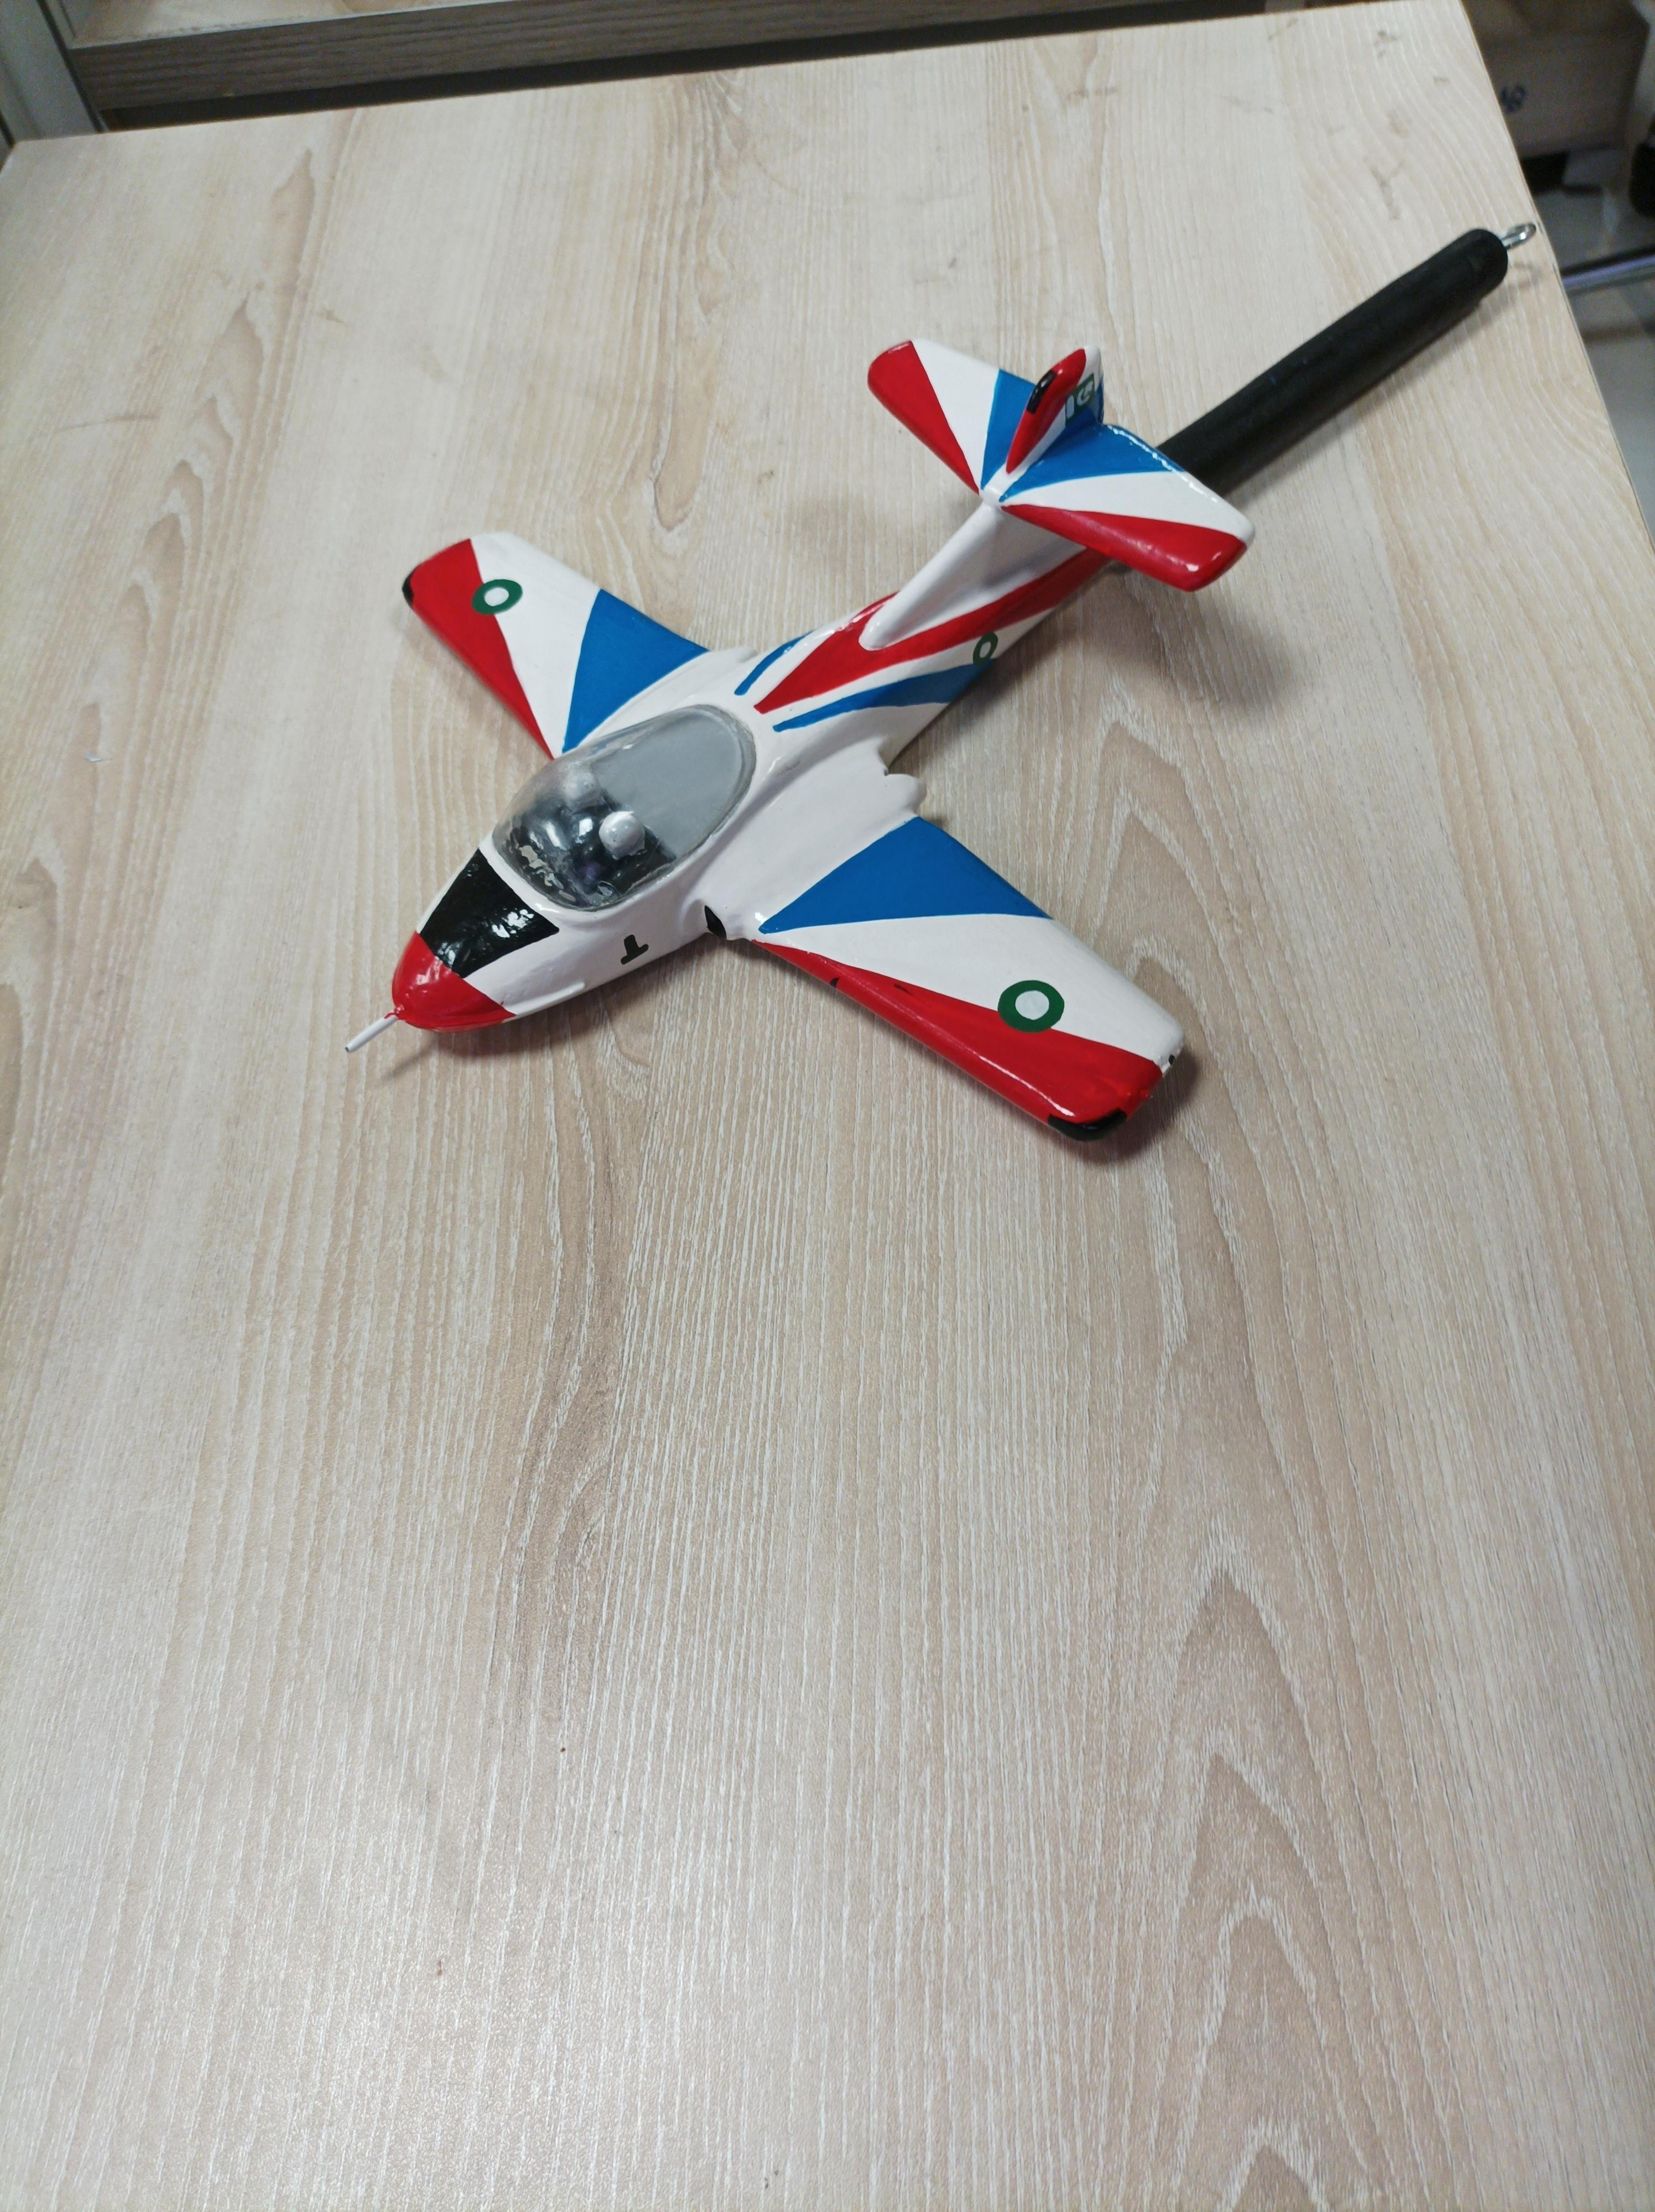Airplane: (337, 308, 1306, 1222)
